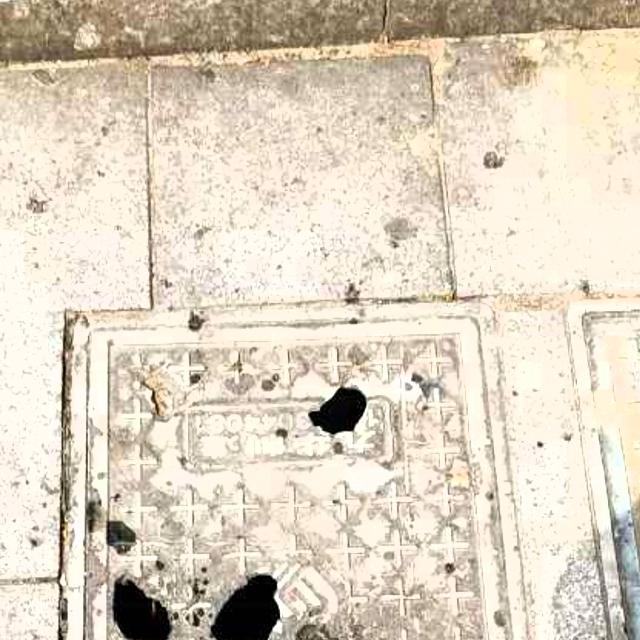broke: (58, 320, 551, 640)
